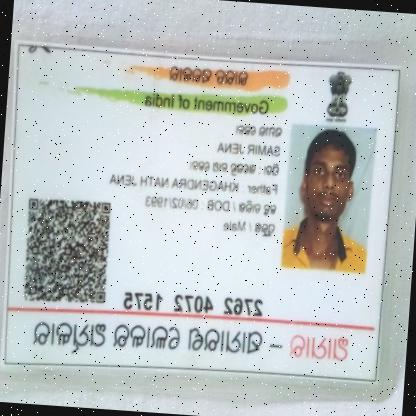aadhaar_card: (0, 23, 405, 406)
